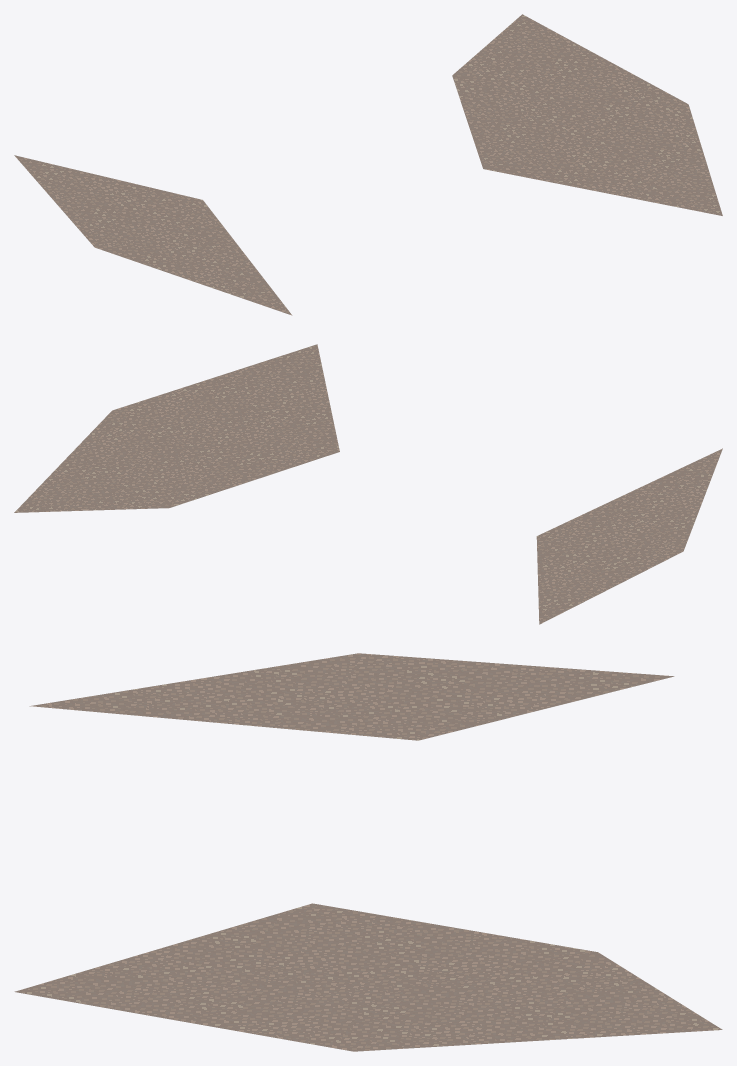
File: kd_stage_136599_16_19_bounded.glb
3 renders of one model, top to bottom at view 1: azimuth 30°, elevation 25°; view 2: azimuth 150°, elevation 25°; view 3: azimuth 270°, elevation 25°, orthographic. The views are drawn at different scales.
Parts seen in each view (by area): view 1: kd_stage_136599_16_19_bounded; view 2: kd_stage_136599_16_19_bounded; view 3: kd_stage_136599_16_19_bounded.
Boxes of the visible parts, x1,y1,x2,y2 form: kd_stage_136599_16_19_bounded: [14, 14, 722, 315]; kd_stage_136599_16_19_bounded: [14, 344, 722, 624]; kd_stage_136599_16_19_bounded: [14, 653, 722, 1051].
Size of the model in its own units: 38.06 by 0 by 28.62.
Materials: 1 (1 with a texture image).
